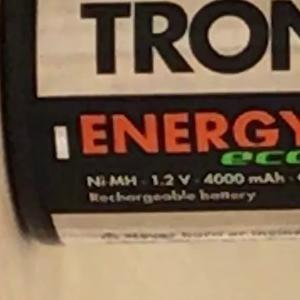keyword: (78, 167, 144, 195)
